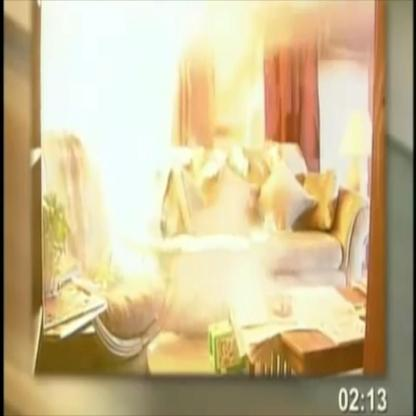fire: (42, 0, 190, 274)
